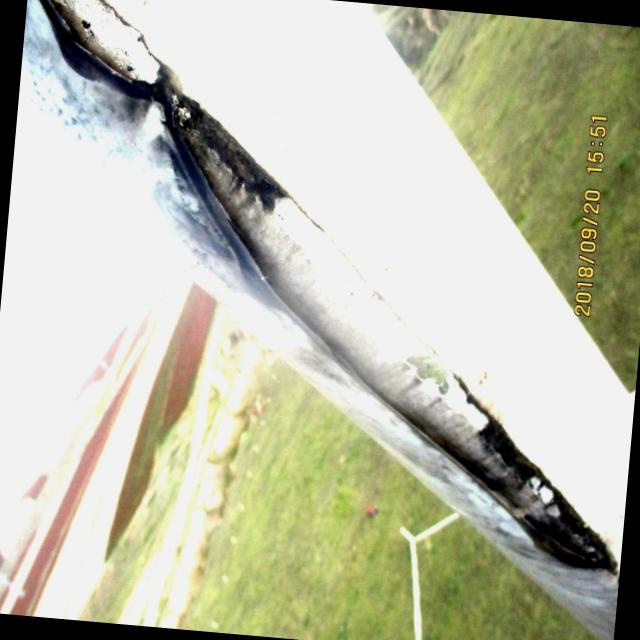crack: (364, 316, 610, 566), (160, 114, 387, 348), (19, 0, 180, 109)
